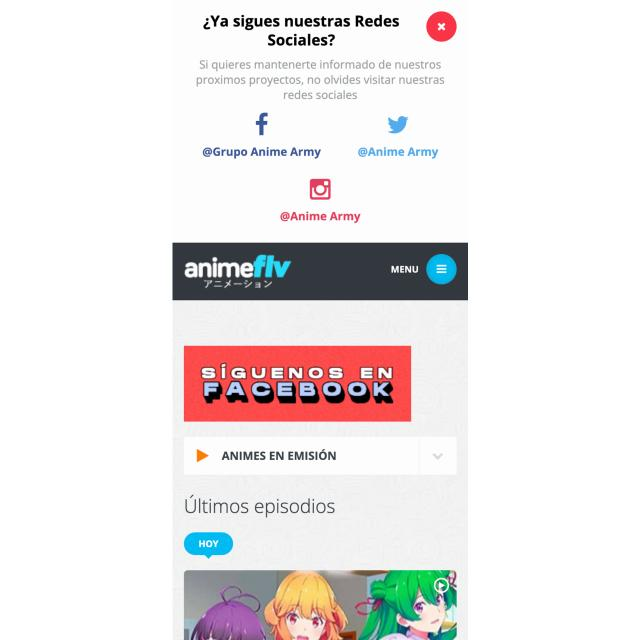CheckBox: (426, 11, 458, 44)
Input field: (192, 54, 447, 105)
RadioButton: (183, 530, 234, 560)
alert: (186, 436, 457, 476)
bag: (174, 242, 468, 302)
breadcrumbs: (181, 491, 339, 522)
carousel: (384, 112, 414, 138), (307, 176, 333, 201), (251, 109, 271, 139), (193, 446, 211, 464), (432, 448, 446, 462)
data feed: (219, 446, 340, 465)
date picker: (182, 252, 293, 292)
decoration: (389, 253, 457, 287)
image: (196, 12, 404, 51)
